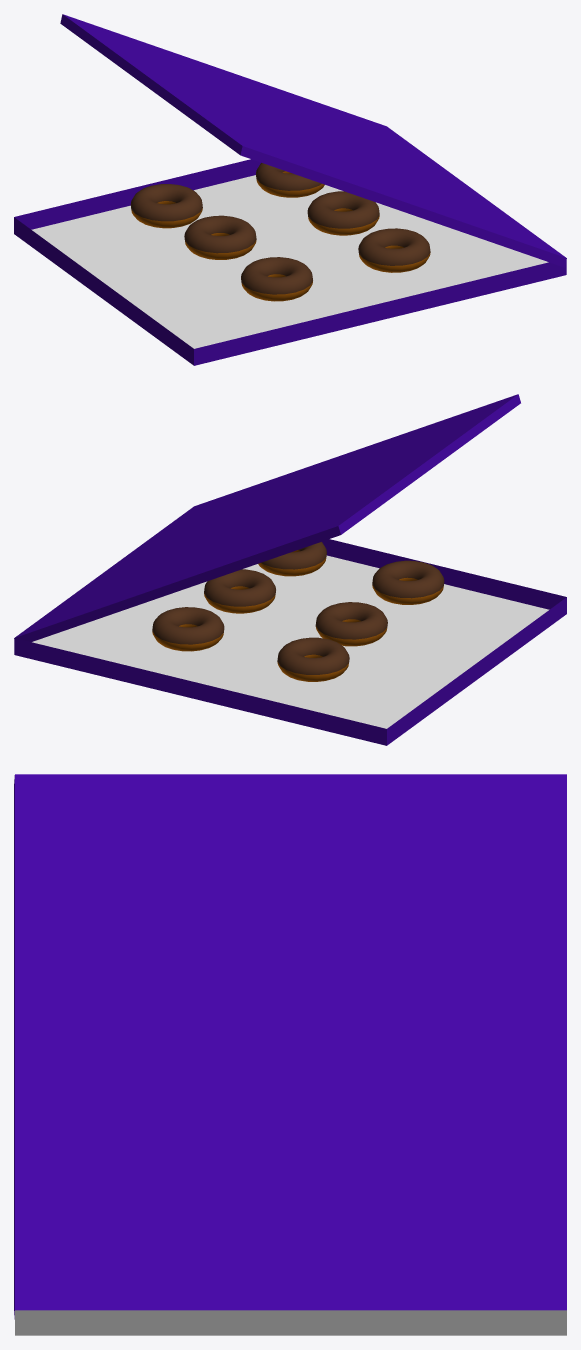
File: doughnut.fbx
3 renders of one model, top to bottom at view 1: azimuth 30°, elevation 25°; view 2: azimuth 150°, elevation 25°; view 3: azimuth 270°, elevation 25°, orthographic. The views are drawn at different scales.
Visible parts, largest first — view 1: packet:polySurface1, packet:polySurface2, packet:pTorus3, packet:pTorus2, packet:pTorus6, packet:pTorus1, packet:pTorus4, packet:pTorus5; view 2: packet:polySurface1, packet:polySurface2, packet:pTorus5, packet:pTorus2, packet:pTorus6, packet:pTorus1, packet:pTorus4, packet:pTorus3; view 3: packet:polySurface2, packet:polySurface1.
Part boxes in pixels (bbox=[...]): packet:polySurface1: bbox=[14, 159, 566, 365]; packet:polySurface2: bbox=[60, 14, 566, 267]; packet:pTorus3: bbox=[358, 228, 430, 272]; packet:pTorus2: bbox=[241, 257, 312, 301]; packet:pTorus6: bbox=[130, 184, 202, 228]; packet:pTorus1: bbox=[184, 215, 256, 259]; packet:pTorus4: bbox=[307, 191, 379, 235]; packet:pTorus5: bbox=[256, 163, 324, 197]; packet:polySurface1: bbox=[14, 539, 566, 745]; packet:polySurface2: bbox=[14, 394, 520, 641]; packet:pTorus5: bbox=[152, 607, 224, 651]; packet:pTorus2: bbox=[372, 560, 444, 604]; packet:pTorus6: bbox=[277, 637, 349, 681]; packet:pTorus1: bbox=[315, 602, 387, 646]; packet:pTorus4: bbox=[204, 569, 275, 613]; packet:pTorus3: bbox=[258, 542, 326, 576]; packet:polySurface2: bbox=[14, 774, 566, 1319]; packet:polySurface1: bbox=[15, 1310, 566, 1335].
Bounding box in the file's own units: 9.59 × 5.12 × 8.04.
